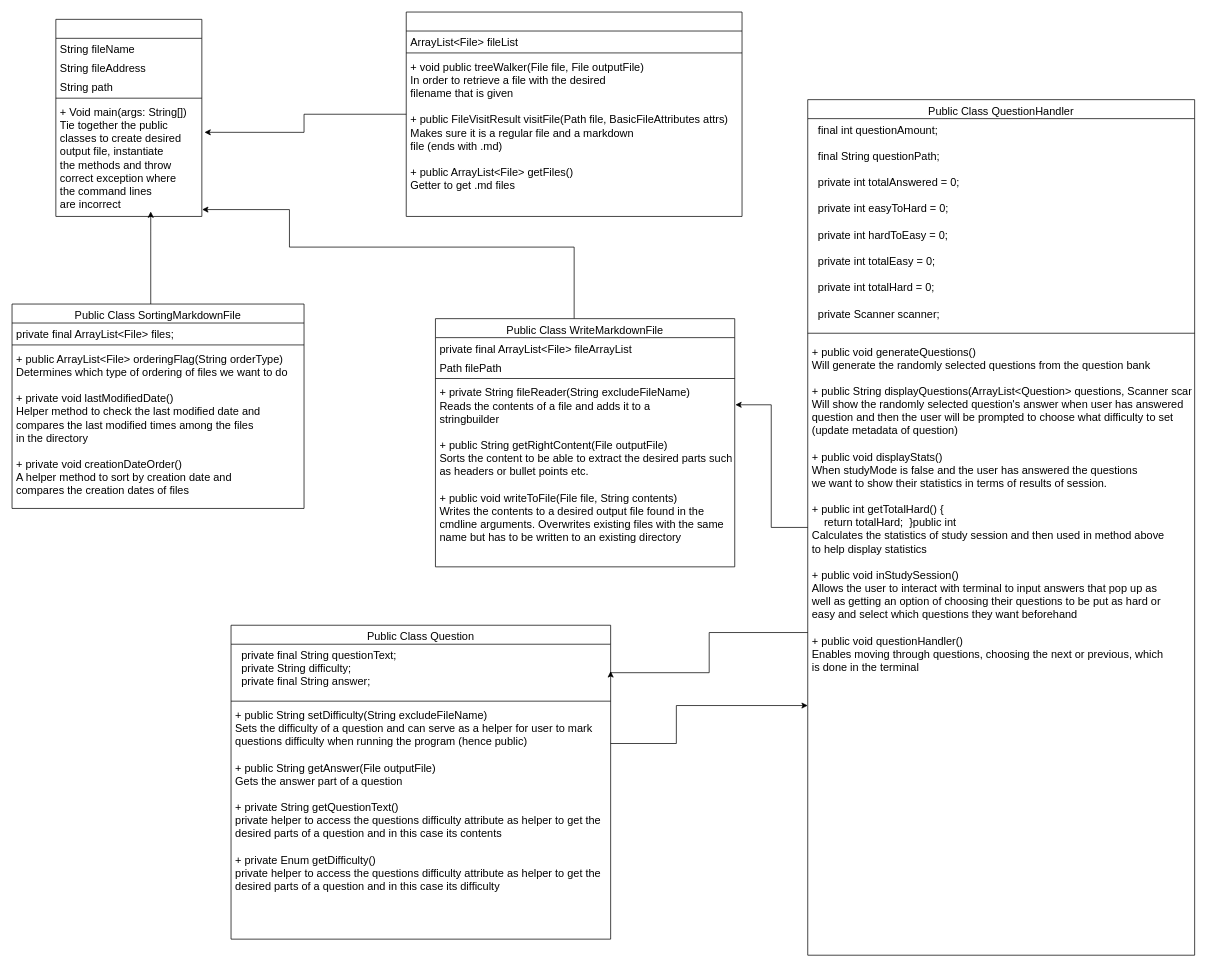
Image size: 1226x967. Some labels were removed from this diagram. Here are the shapes that lost their labels. From the top down, the box of each, then its label:
(55, 19, 202, 216): Class Driver (Main class)
(406, 11, 742, 216): Public Class ReadMarkdownFiles
